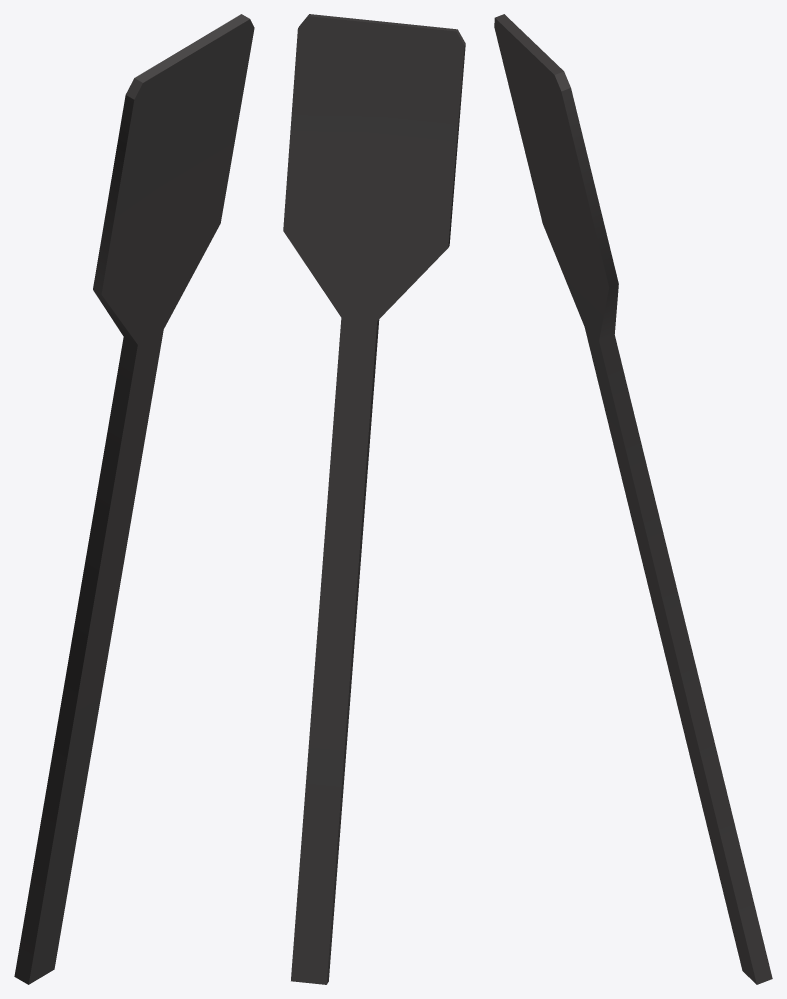
Rendered from Kitchen_Spatula05.FBX.
3 renders of one model, left to right at view 1: azimuth 30°, elevation 25°; view 2: azimuth 150°, elevation 25°; view 3: azimuth 270°, elevation 25°, orthographic. The views are drawn at different scales.
Visible parts, largest first — view 1: Kitchen_spatula_5; view 2: Kitchen_spatula_5; view 3: Kitchen_spatula_5.
Boxes of the visible parts, left/top/right/bottom form: Kitchen_spatula_5: left=14, top=14, right=254, bottom=984; Kitchen_spatula_5: left=283, top=14, right=465, bottom=984; Kitchen_spatula_5: left=494, top=14, right=772, bottom=984.
Size of the model in its own units: 0.0558 by 0.3235 by 0.0855.
